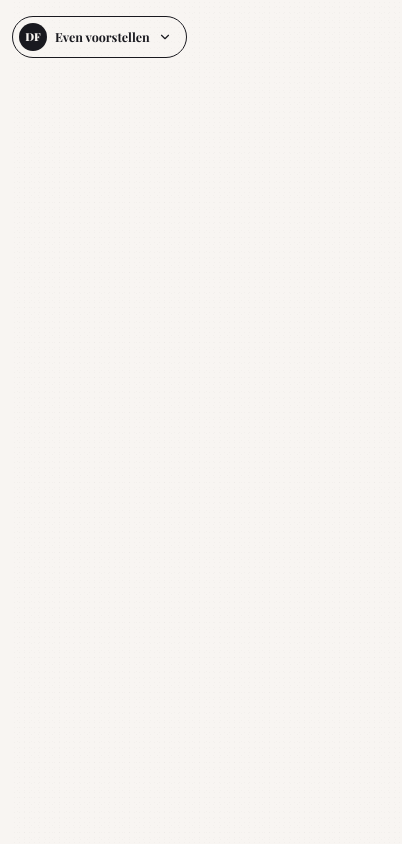
Test: PloegleiderIntro › klapt open en stelt Douwe voor
Click the button at (99, 37), box [12,16,187,58]
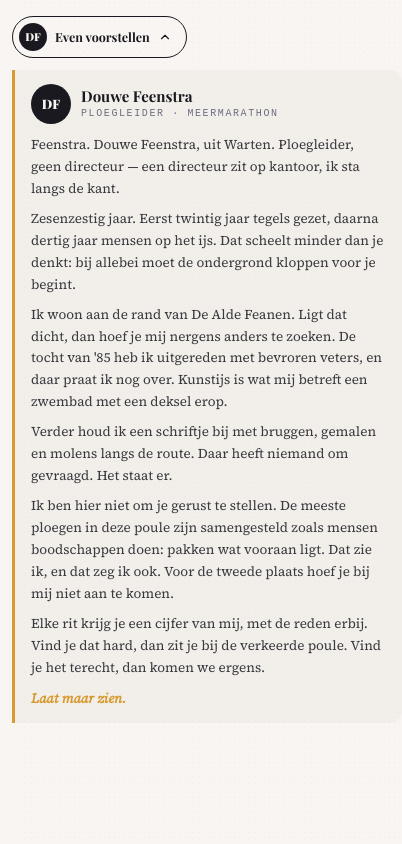
Check: the button is expanded, box [12,16,187,58]
Check: the text "Douwe Feenstra" is shown 2 times, box [81,86,192,106]; [31,134,386,200]
Check: the text "Warten" is shown, box [31,135,360,198]
